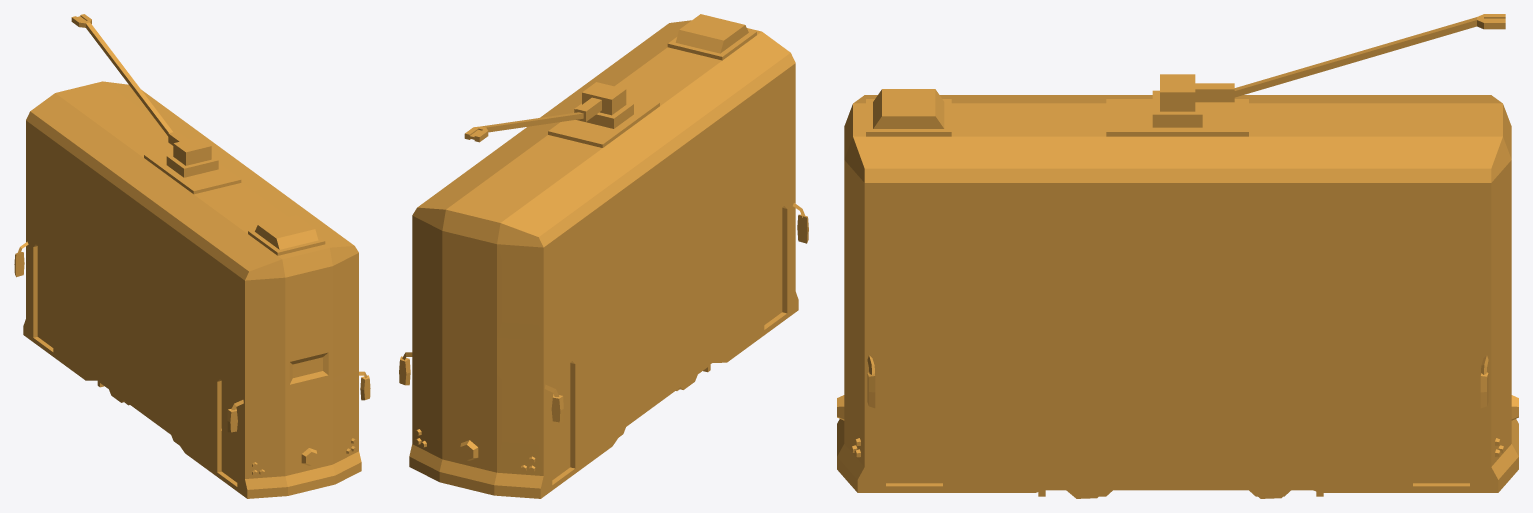
The model's file is tram-china.fbx.
3 renders of one model, left to right at view 1: azimuth 30°, elevation 25°; view 2: azimuth 150°, elevation 25°; view 3: azimuth 270°, elevation 25°, orthographic. The views are drawn at different scales.
Visible parts, largest first — view 1: tram-china-base; view 2: tram-china-base; view 3: tram-china-base.
Part boxes in pixels (left/top/right/bottom): tram-china-base: left=14, top=14, right=370, bottom=498; tram-china-base: left=399, top=14, right=808, bottom=498; tram-china-base: left=837, top=14, right=1518, bottom=496.
Bounding box in the file's own units: 3.28 × 7.11 × 9.56.
